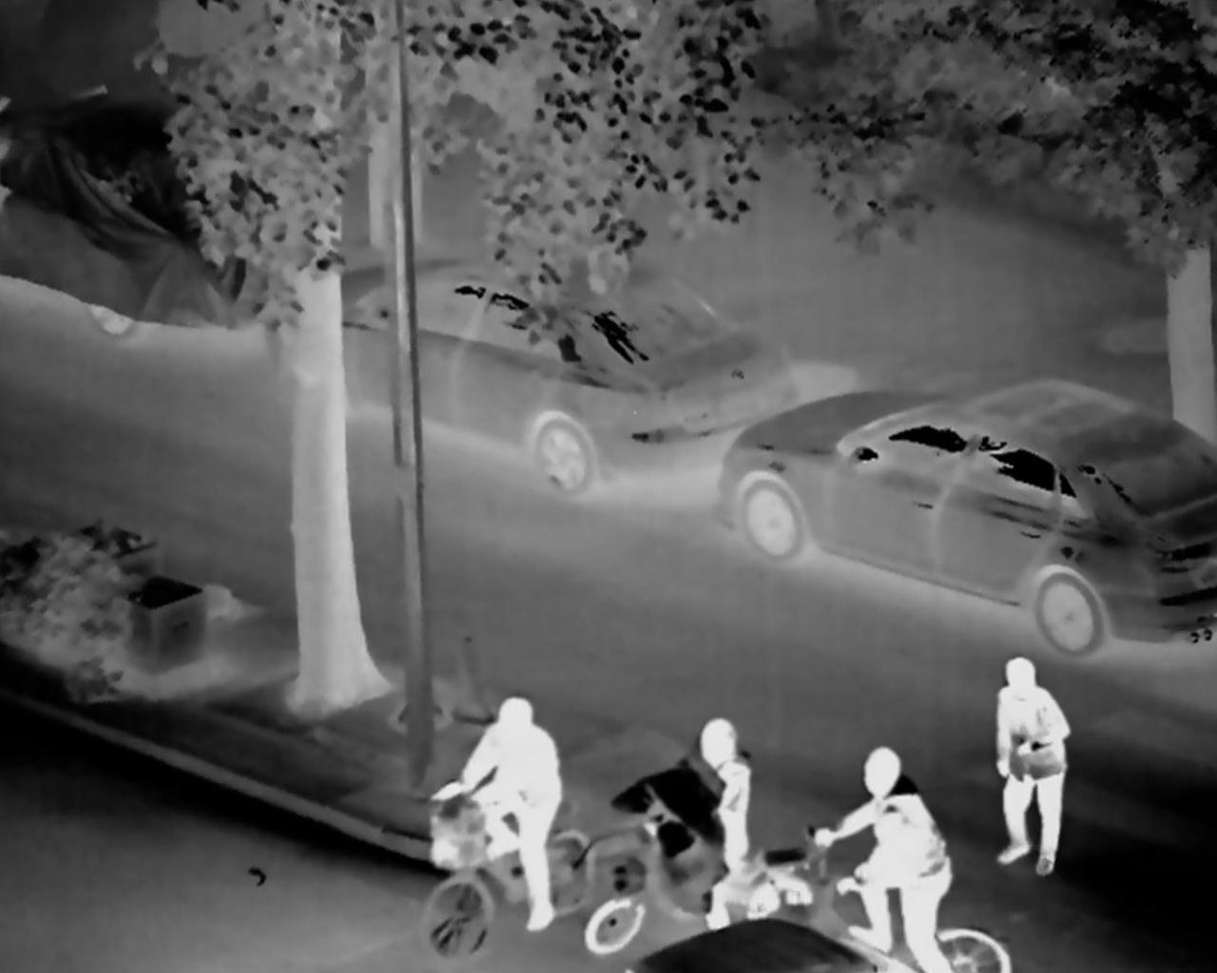person: (806, 743, 971, 973), (427, 691, 565, 937), (640, 714, 770, 938), (990, 653, 1072, 878)
